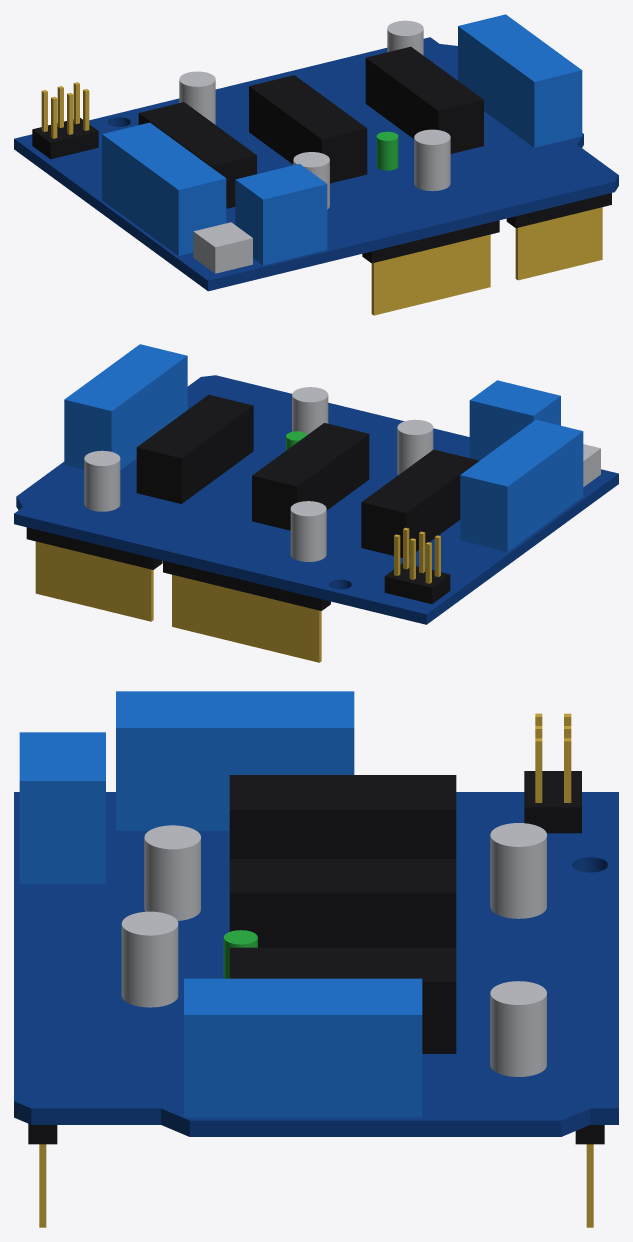
Rendered from motor_shield_l293d.glb.
The picture shows the model from 3 angles, top to bottom: view 1: azimuth 30°, elevation 25°; view 2: azimuth 150°, elevation 25°; view 3: azimuth 270°, elevation 25°; orthographic projection. The views are drawn at different scales.
Parts seen in each view (by area): view 1: pcb, bornes, ci, nc_pinos, caps, espacadores, reset, nc_servo, led; view 2: pcb, bornes, ci, nc_pinos, caps, espacadores, nc_servo, reset; view 3: pcb, bornes, ci, caps, nc_servo, nc_pinos, espacadores, led.
Part boxes in pixels (x1,y1,x2,y2): pcb: (14,37,618,291); bornes: (102,14,582,265); ci: (32,46,483,208); nc_pinos: (371,207,602,315); caps: (179,20,450,209); espacadores: (362,193,611,263); reset: (193,222,252,273); nc_servo: (41,82,89,138); led: (376,131,398,170); pcb: (14,375,618,624); bornes: (64,344,583,551); ci: (136,394,478,603); nc_pinos: (35,541,321,662); caps: (84,387,433,561); espacadores: (26,527,330,610); nc_servo: (394,527,440,583); reset: (583,444,600,486); pcb: (14,792,618,1136); bornes: (19,691,422,1117); ci: (229,771,581,1053); caps: (121,823,546,1076); nc_servo: (535,713,571,802); nc_pinos: (39,1144,593,1227); espacadores: (28,1124,604,1144); led: (223,930,257,978).
Bounding box in the file's own units: 68.58 × 22.6 × 53.34.
